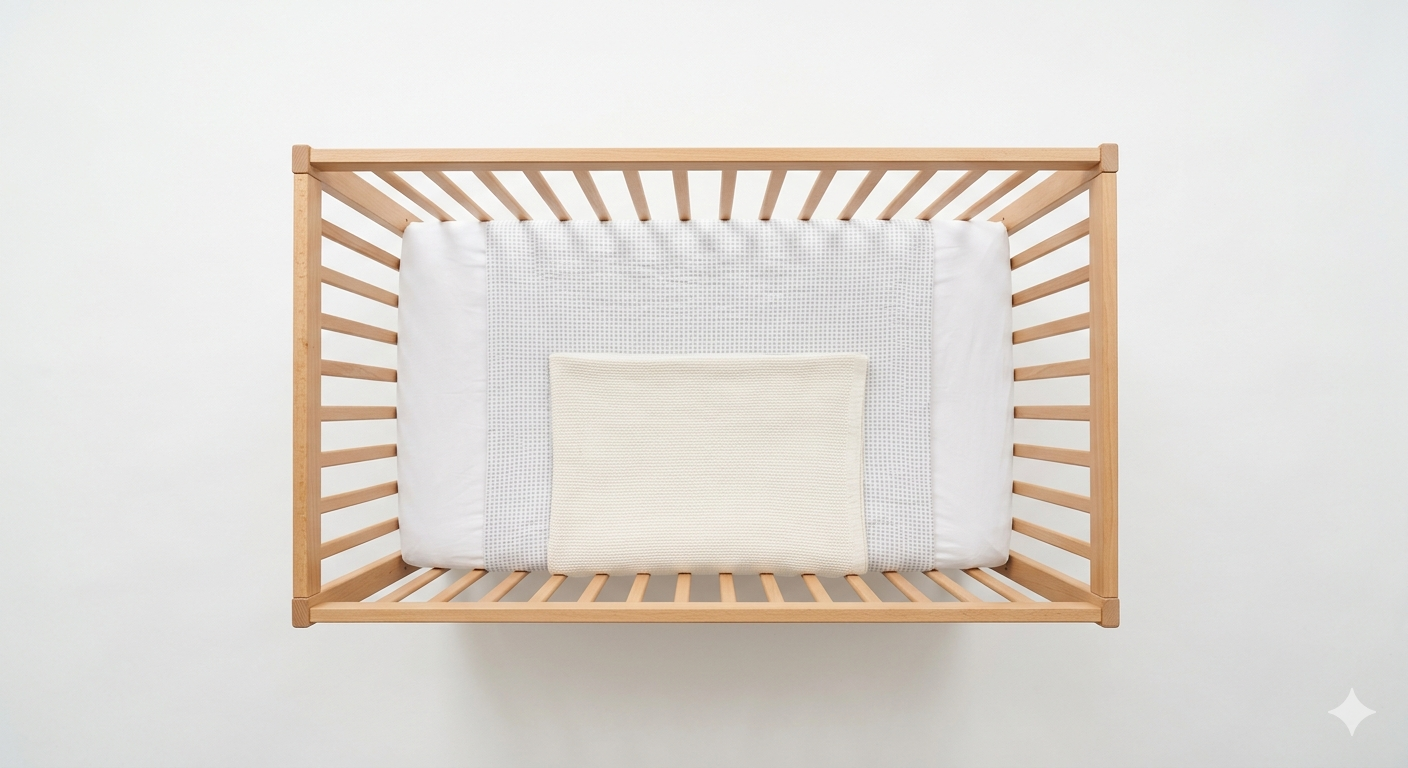crib: (293, 144, 1117, 626)
